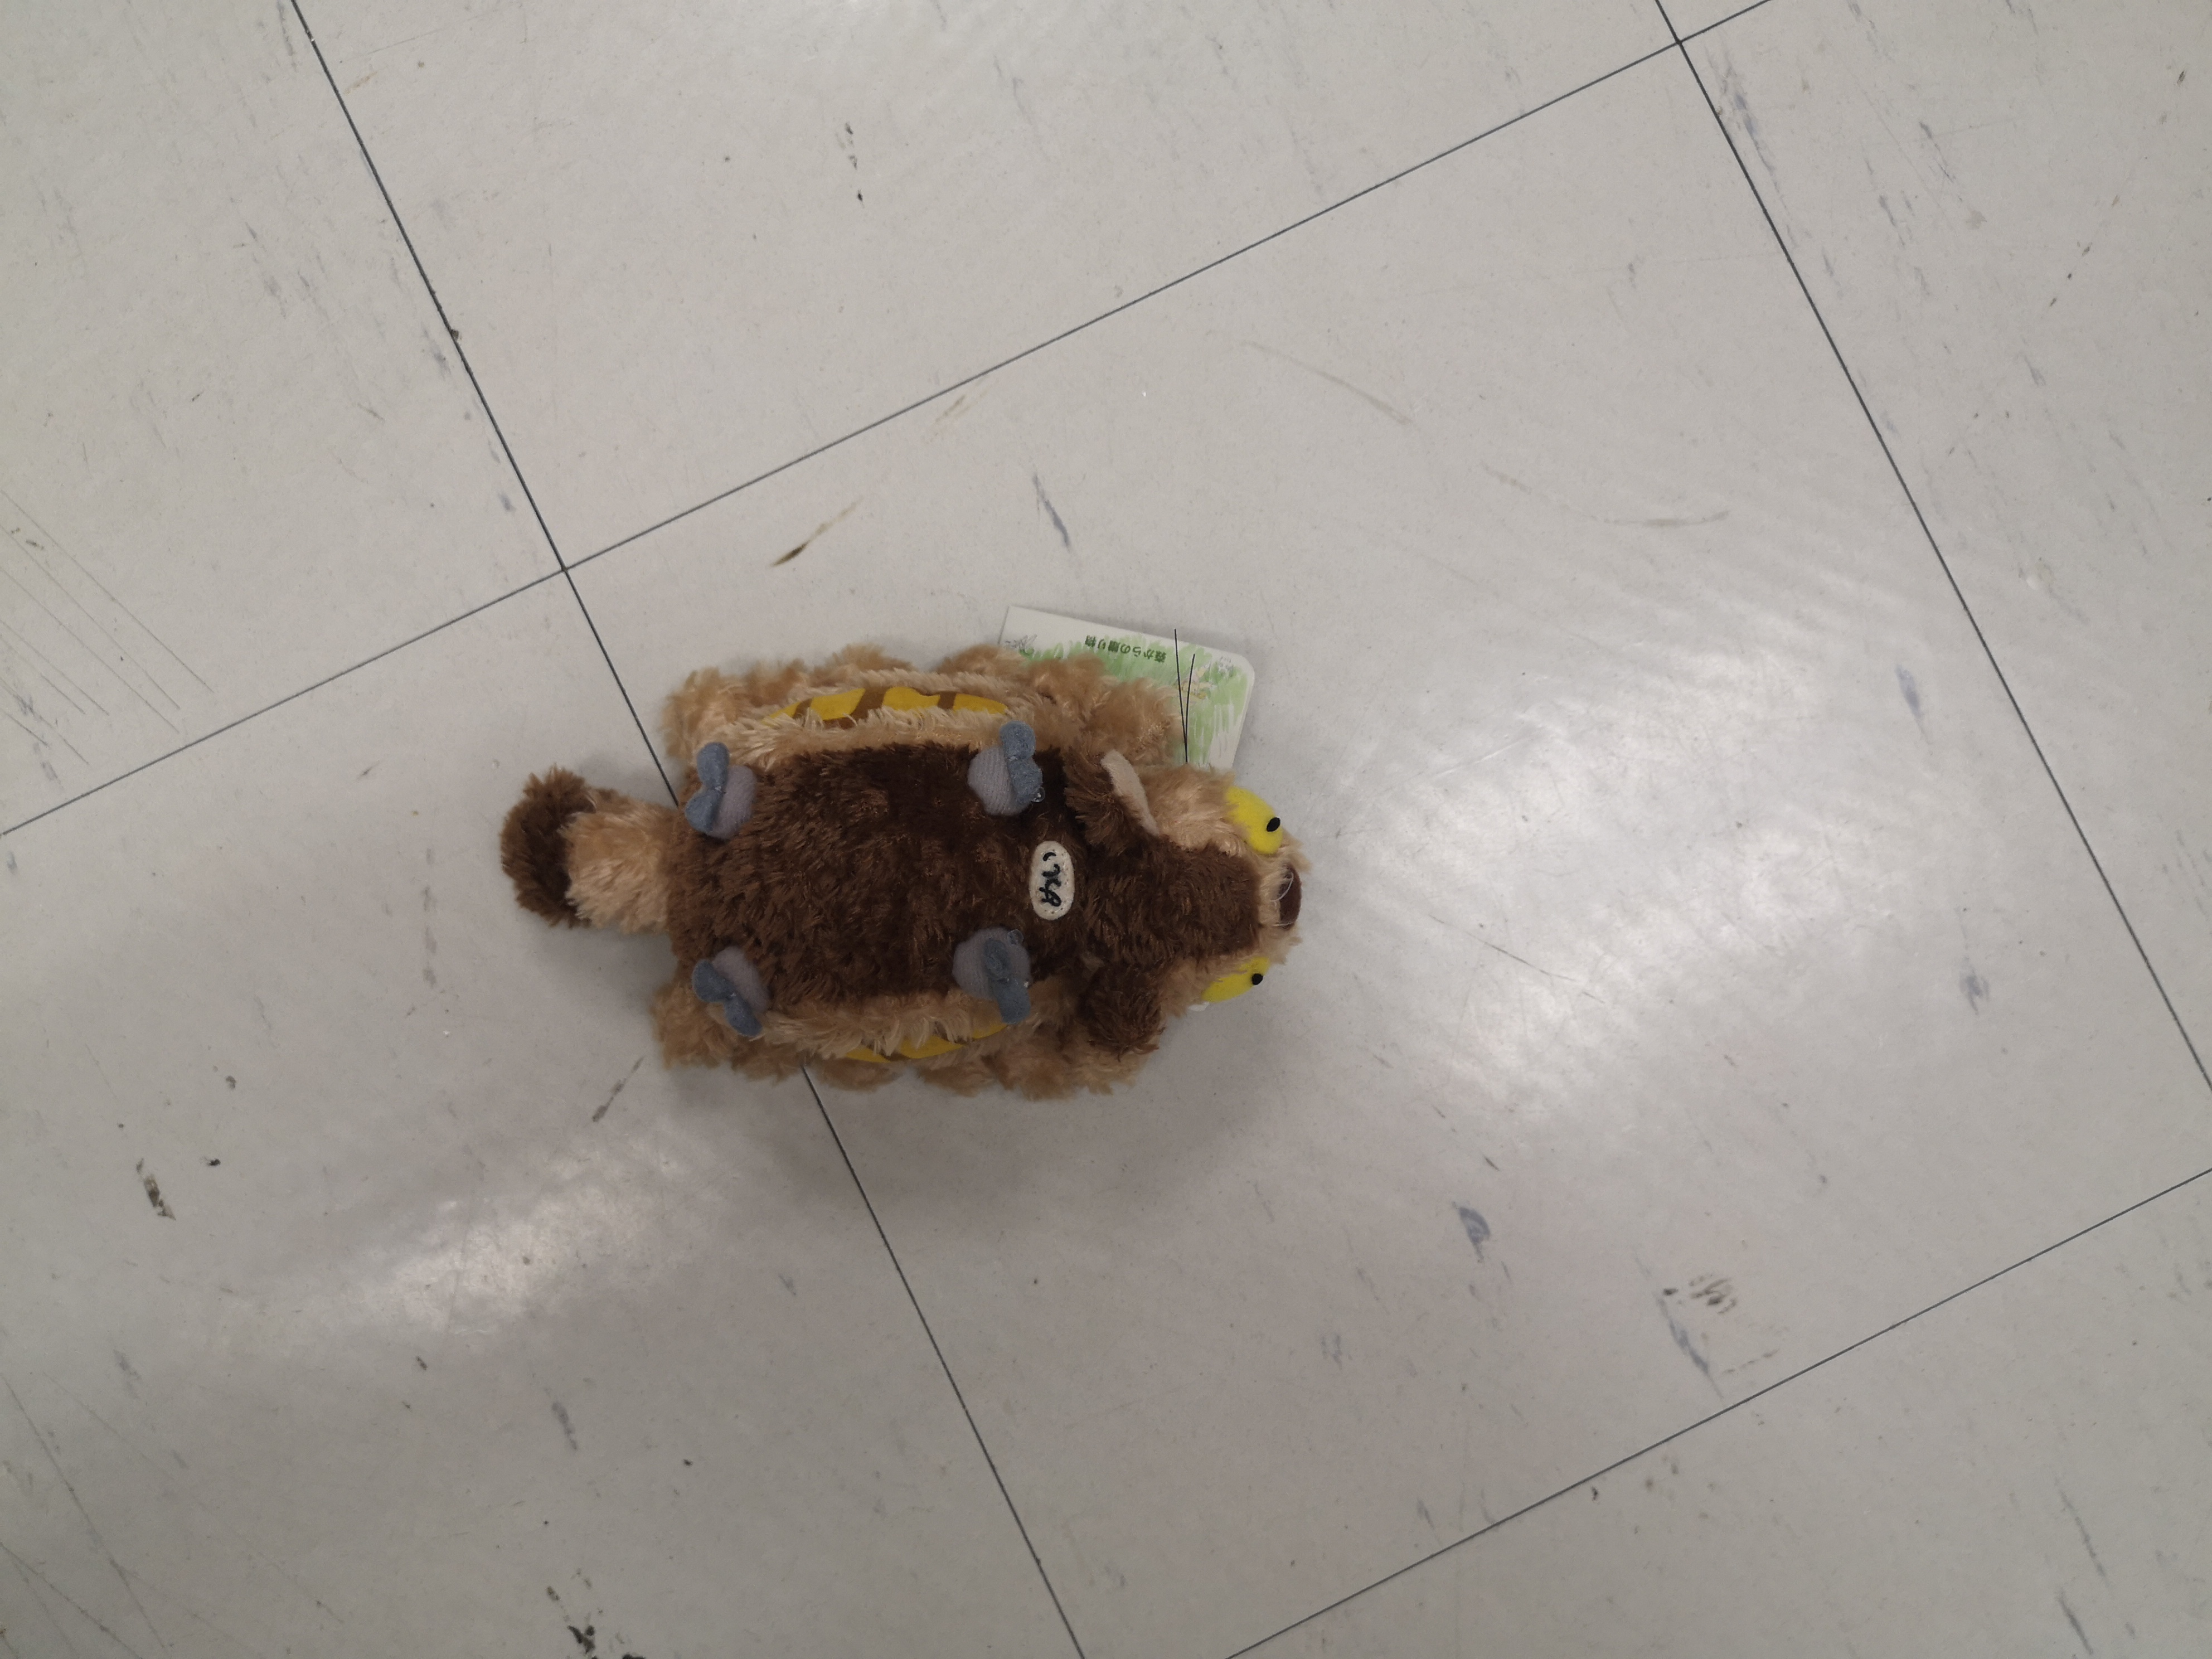nekobus: (498, 582, 1322, 1114)
